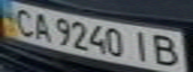0: (103, 25, 130, 58)
2: (66, 19, 90, 52)
4: (87, 22, 109, 55)
9: (48, 16, 72, 47)
A: (27, 10, 54, 43)
B: (148, 31, 184, 69)
C: (6, 6, 39, 37)
I: (127, 29, 157, 63)
